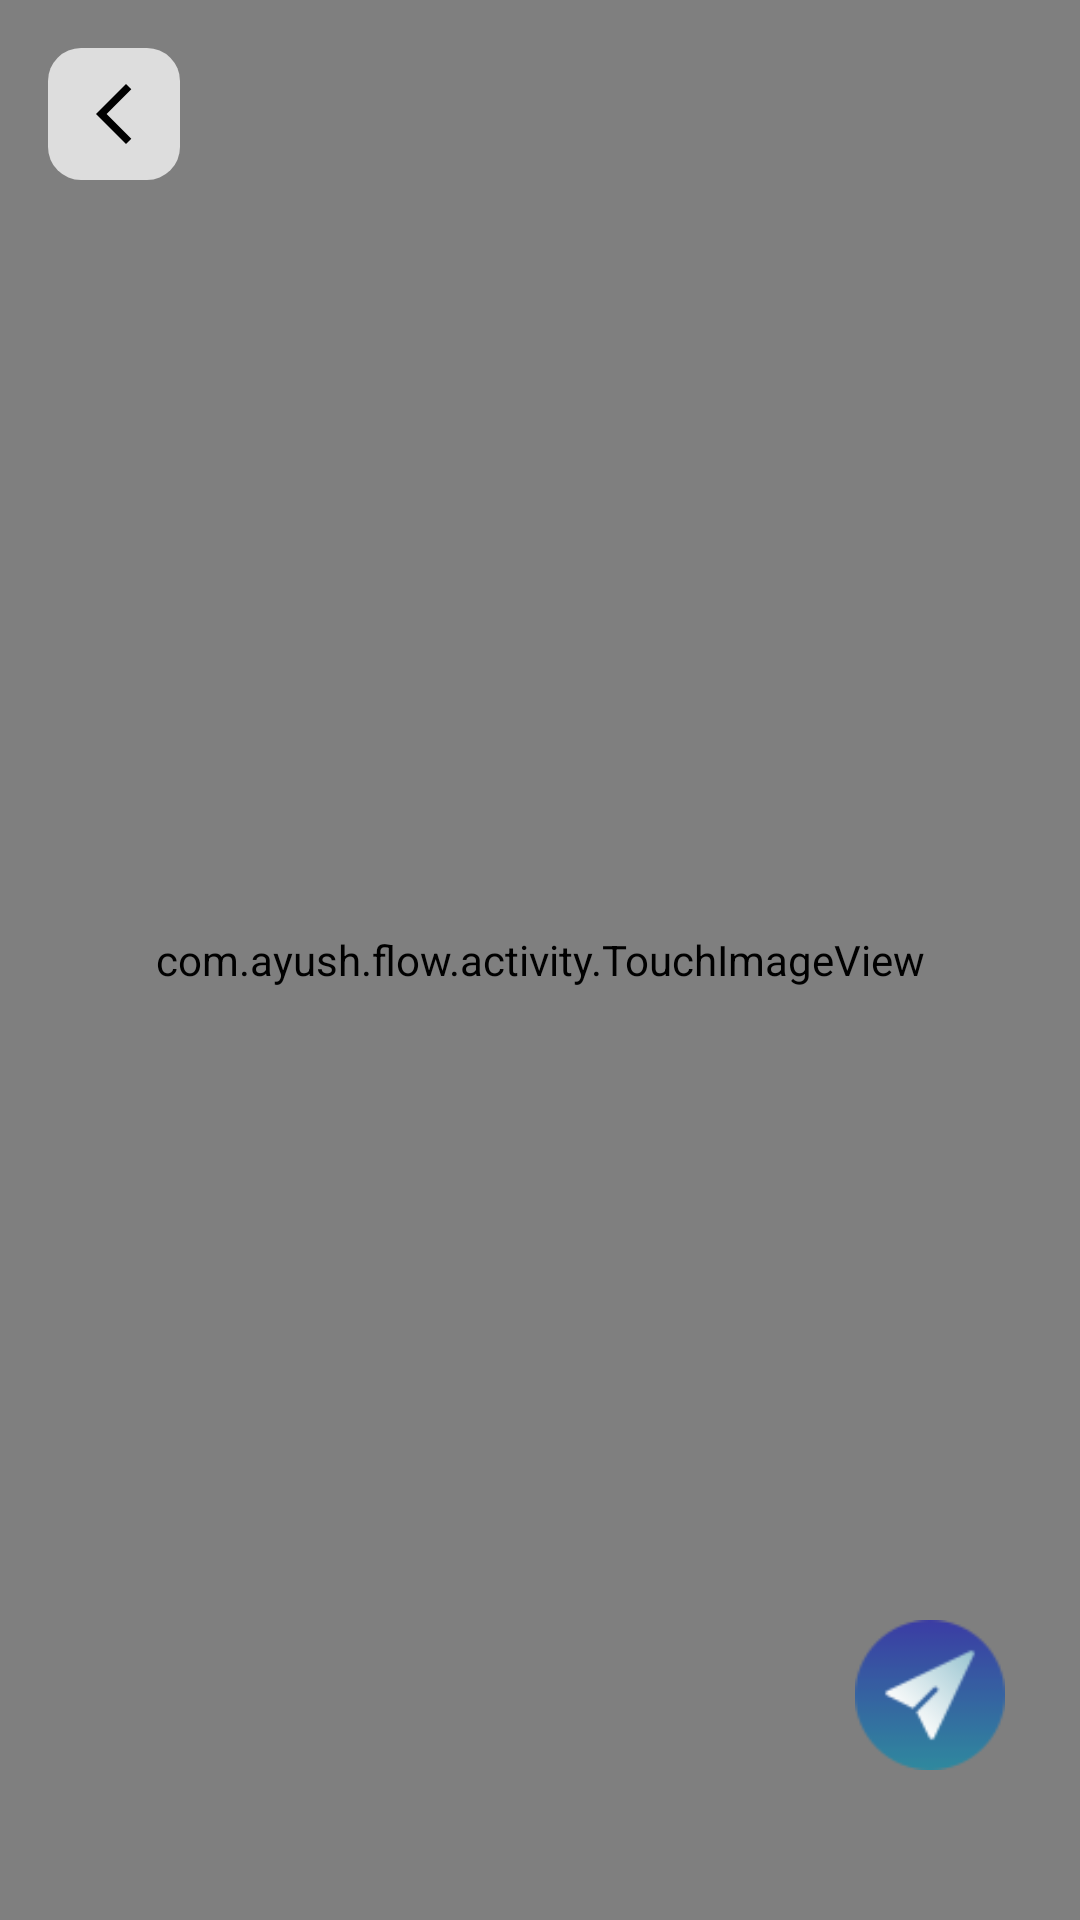

Icons on this 1080 × 1920 Android screen, each with its box as (x1,y1,x2,y2):
arrow back: (48,48,180,180)
send: (855,1620,1005,1770)
